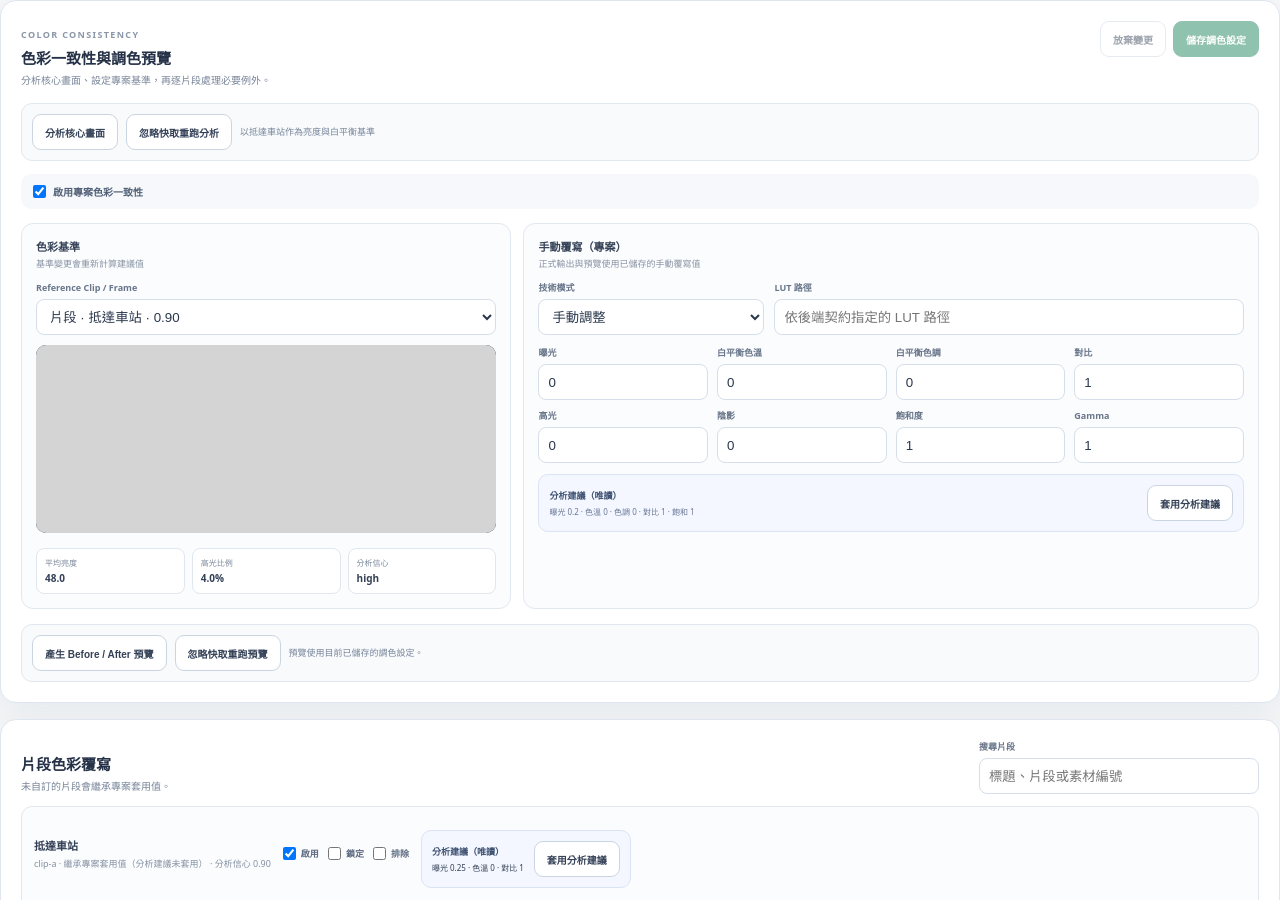
ColorConsistencyWorkspace › saves a normalized color patch and clears dirty state
Replace the text in the number field named "專案曝光" with ".4" at (623, 382), box x1=538 y1=364 x2=708 y2=400
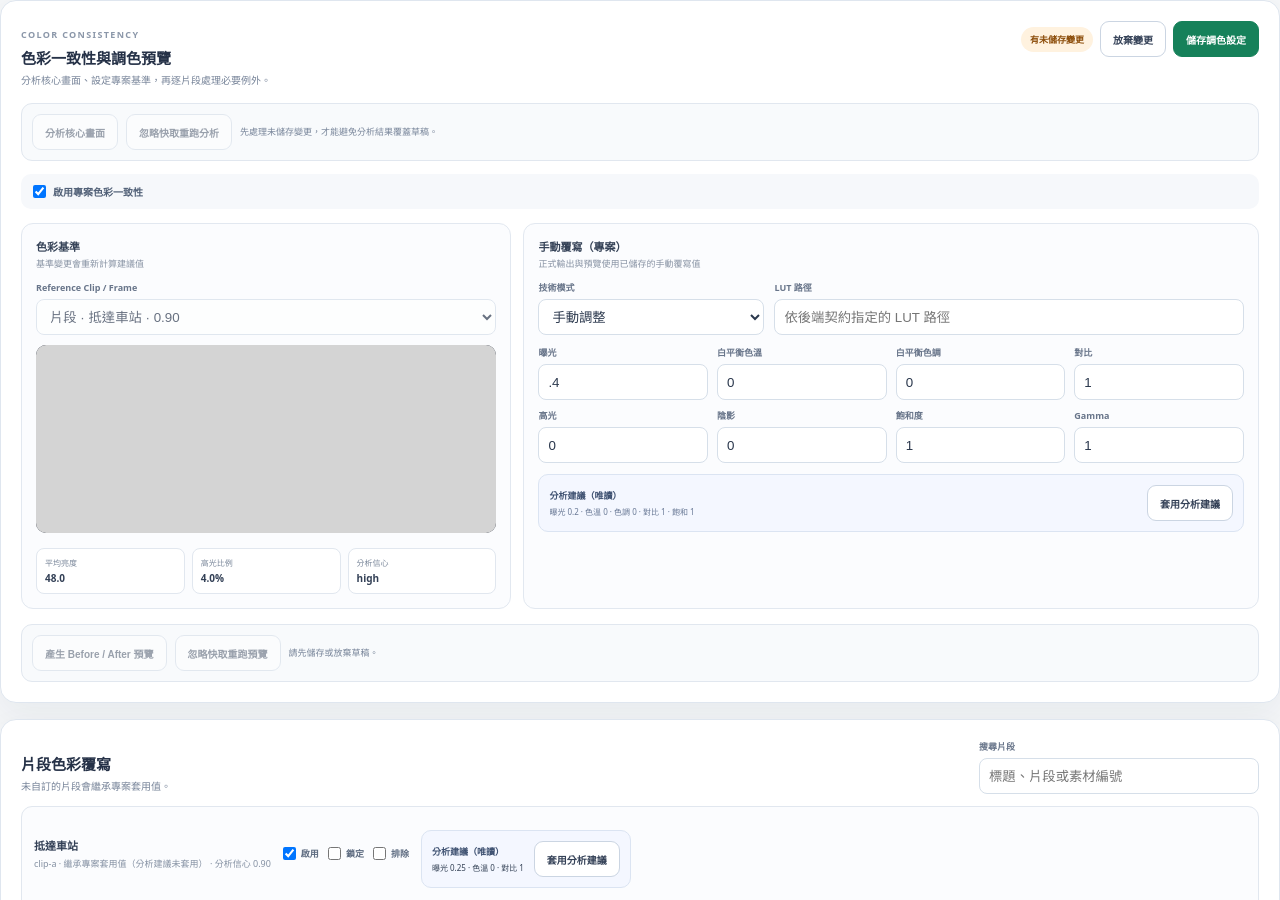
Click the button "儲存調色設定".
click(1216, 39)  # box x1=1173 y1=21 x2=1259 y2=57
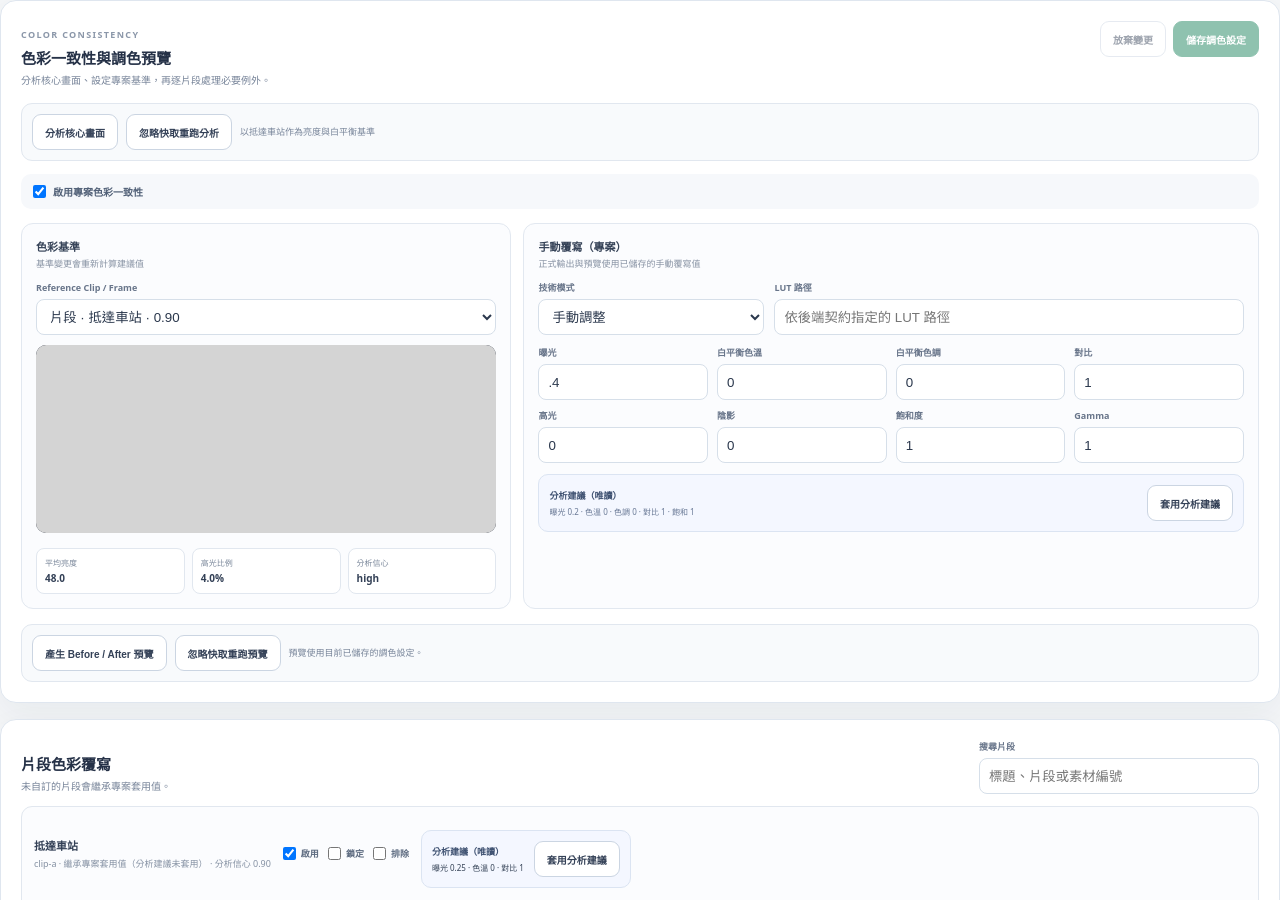
expect the text "有未儲存變更" is gone: met
